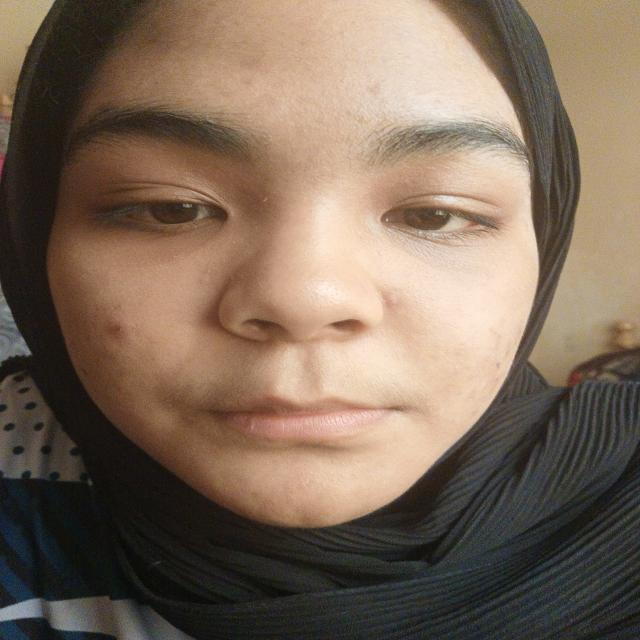Acne: (103, 317, 127, 340), (378, 290, 402, 308)
Blackheads: (481, 328, 511, 374)
